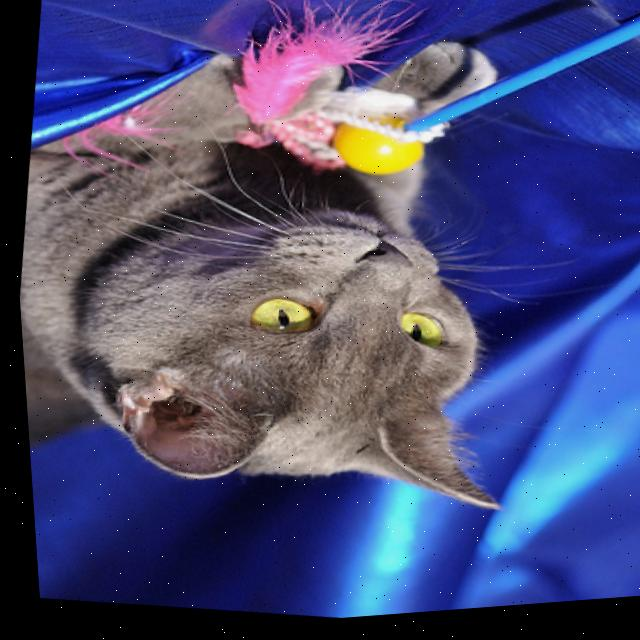Russian Blue: (0, 0, 563, 554)
